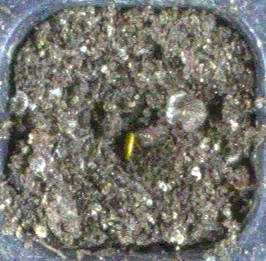pepper seed: (55, 50, 191, 212)
